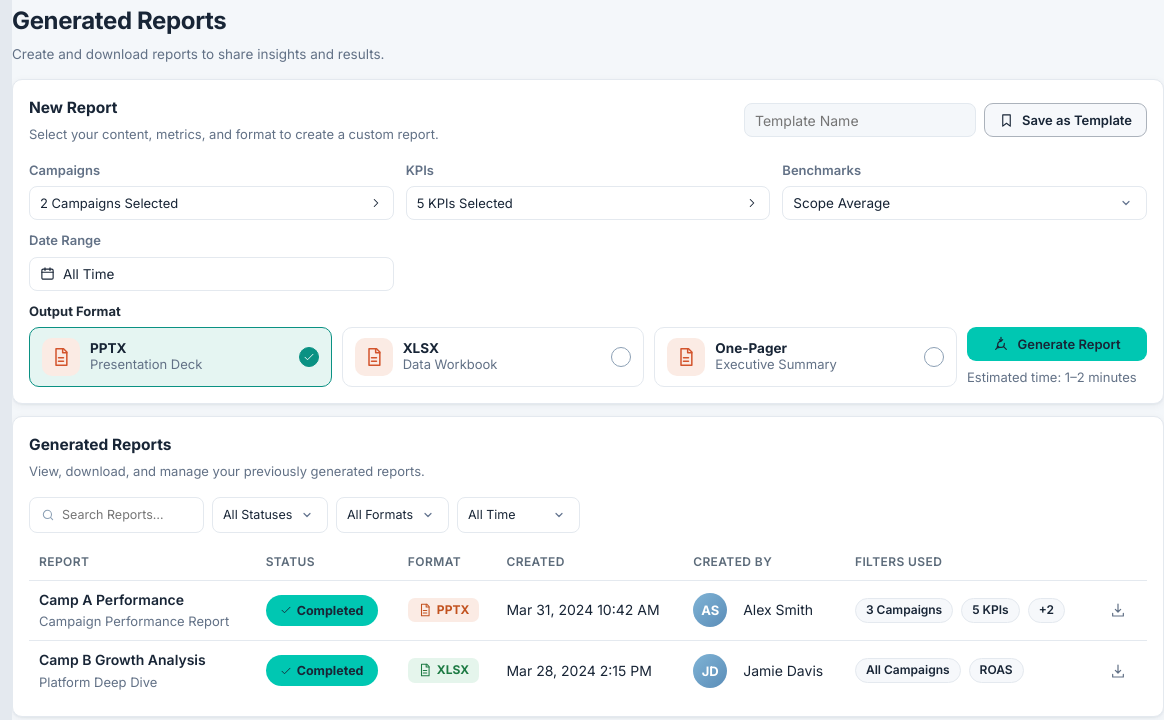
Test: ReportsPage › singularizes the multiselect count at exactly one
The image size is (1164, 720).
Expected: the text "2 Campaigns Selected" is shown, [40,195,178,211]
Click the button "2 Campaigns Selected": (109, 203) [29,186,394,220]
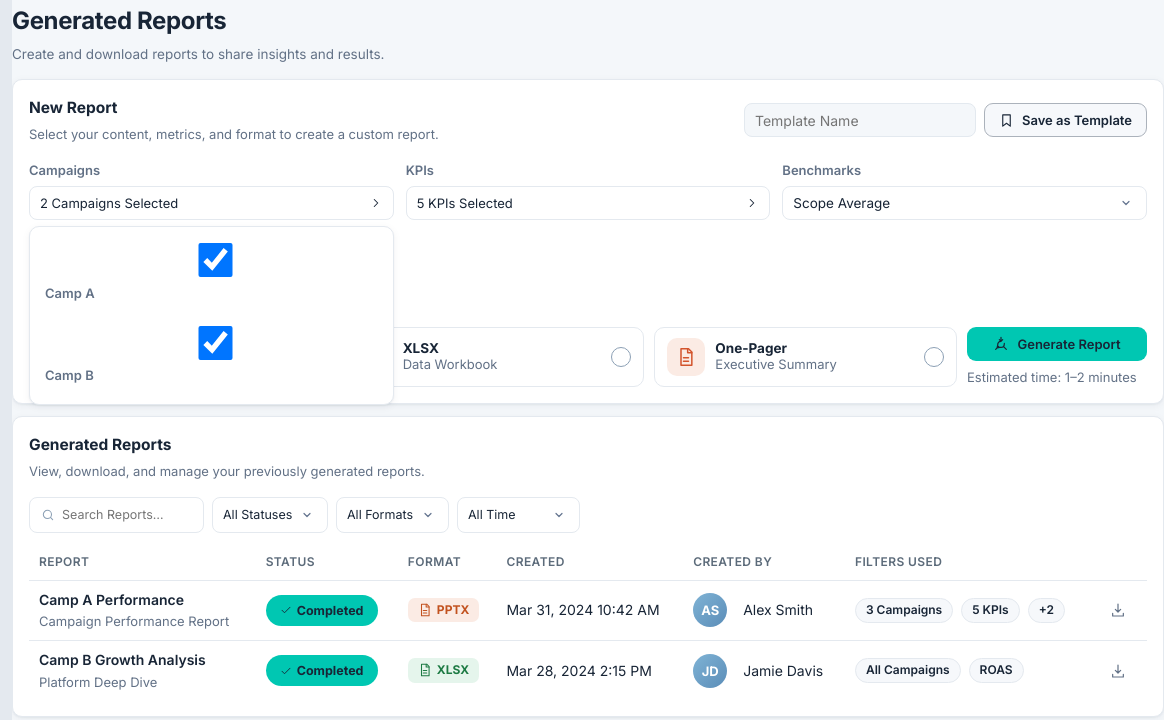
Click the checkbox labelled "Camp B": (215, 343) [49,326,382,360]
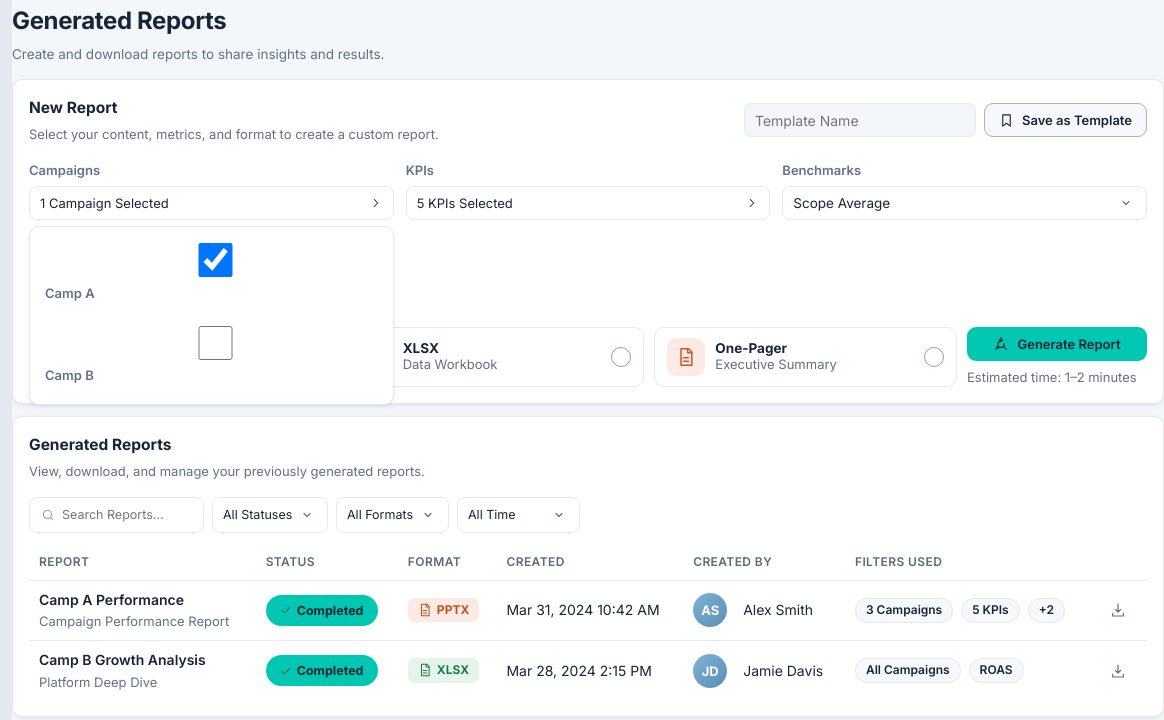
Expected: the text "1 Campaign Selected" is shown, [40,195,169,211]
